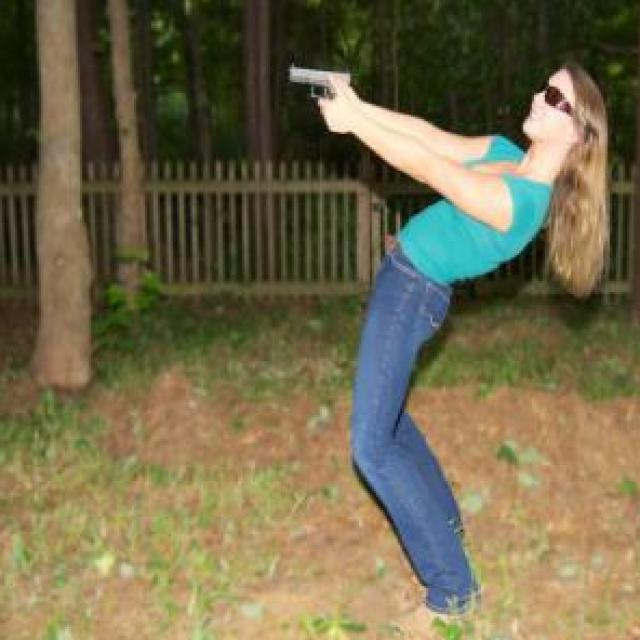pistol: (288, 63, 354, 122)
